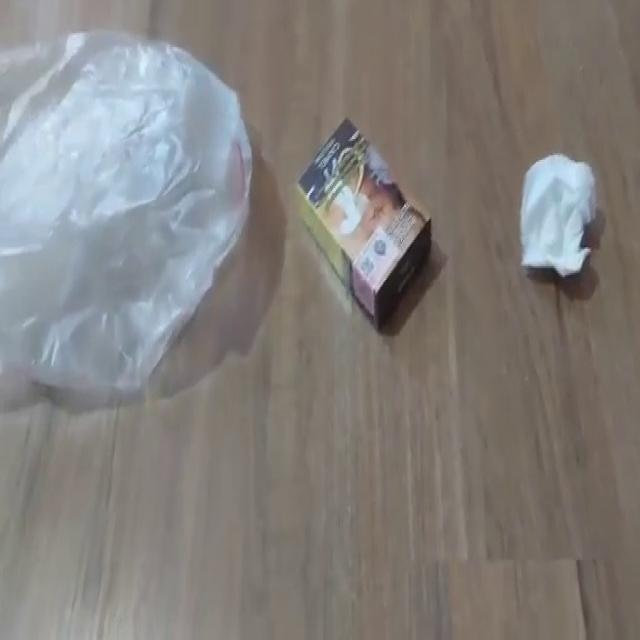Anorganik: (1, 24, 258, 407)
Organik: (294, 113, 437, 339), (518, 146, 600, 284)
